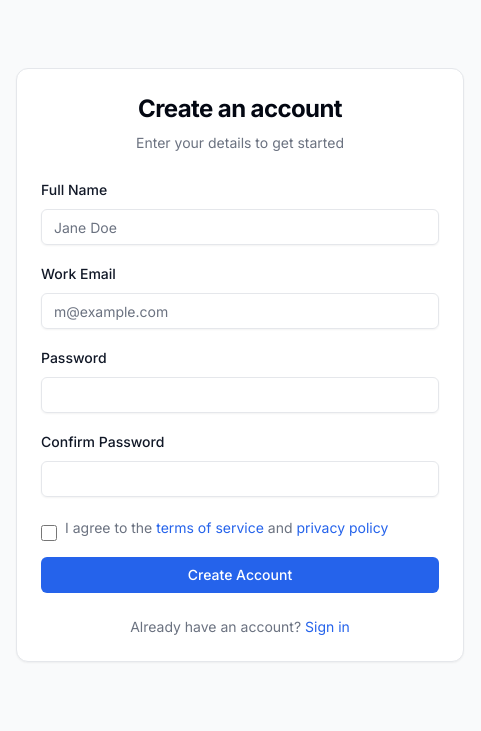
Scenario: Authentication UI › RegisterPage › validates matching passwords and terms
Click the button "Create Account". click: x=240, y=575
box: [41,557,439,593]
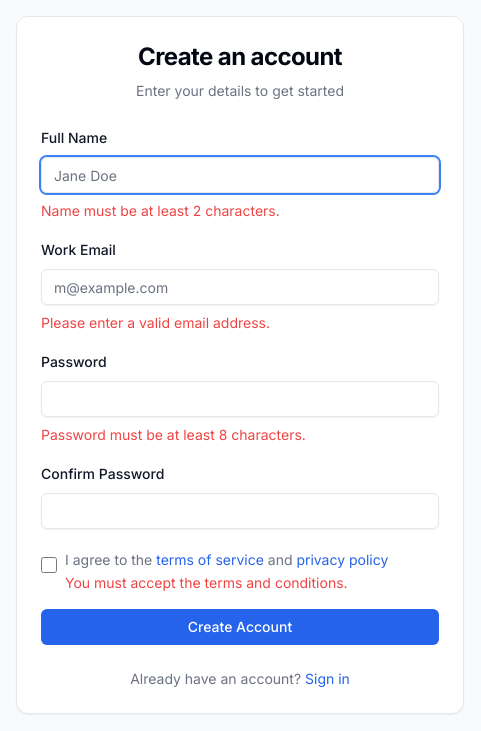
Check: the text "Name must be at least 2 characters." is shown, box [41,202,280,219]
Check: the text "You must accept the terms and conditions." is shown, box [65,573,388,593]
